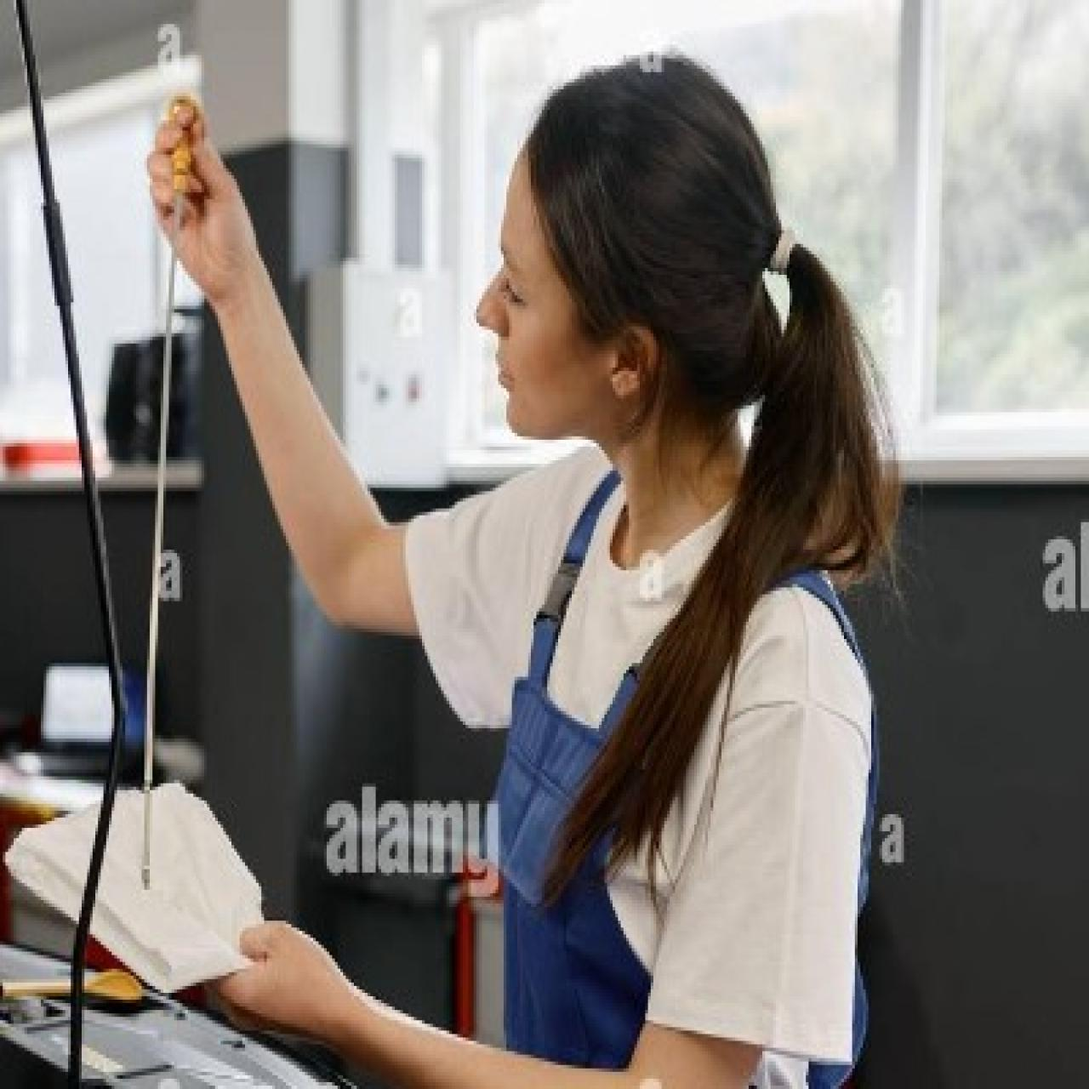NO_Safety_Vest: (490, 474, 841, 1089)
Person: (204, 31, 887, 1089)
